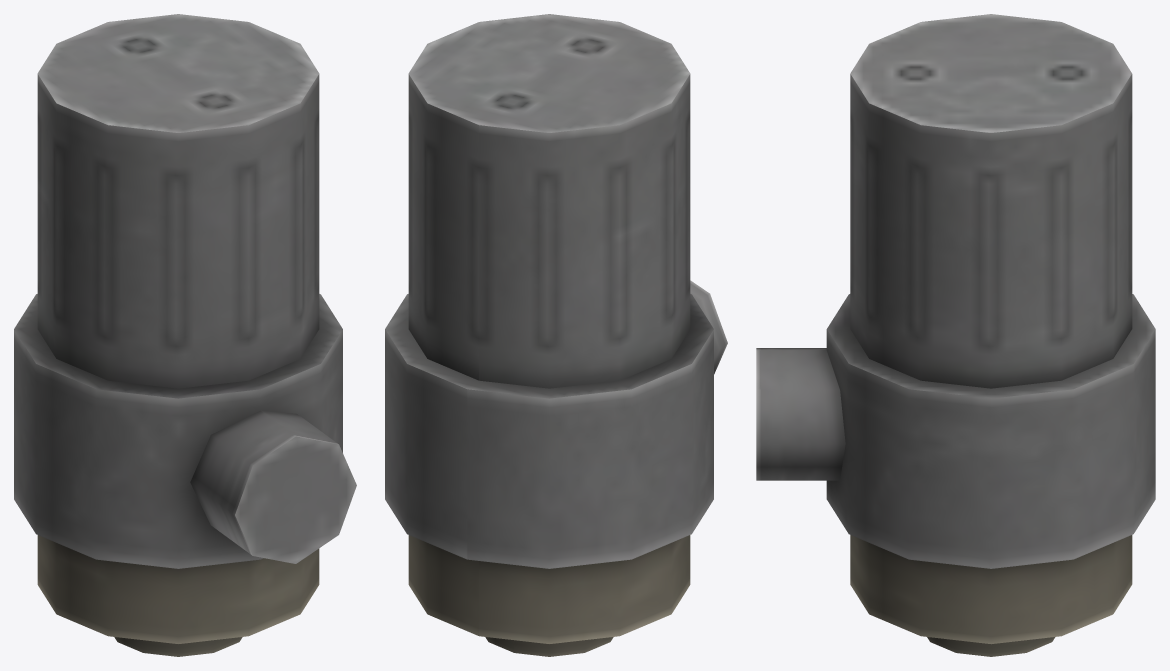
The model's file is 1mv_sensor_accelerometer_compact.obj.
3 views of the same model, side by side, from view 1: azimuth 30°, elevation 25°; view 2: azimuth 150°, elevation 25°; view 3: azimuth 270°, elevation 25° (orthographic).
Visible parts, largest first — view 1: mesh1; view 2: mesh1; view 3: mesh1.
Boxes of the visible parts, <box> form: mesh1: <box>14,14,356,656</box>; mesh1: <box>385,14,727,656</box>; mesh1: <box>756,14,1155,656</box>.
Bounding box in the file's own units: 0.175 × 0.325 × 0.2125.
Materials: 1 (1 with a texture image).
